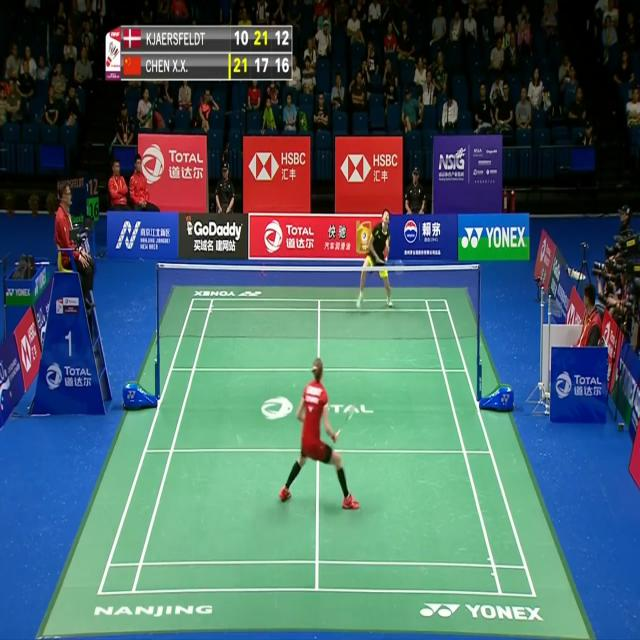Player1: (275, 356, 363, 512)
Player2: (352, 203, 400, 313)
